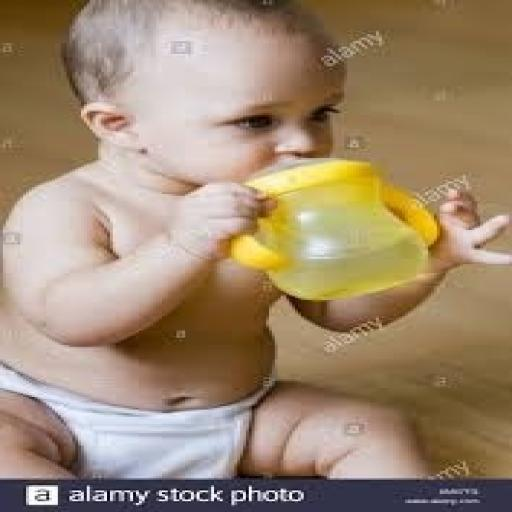drinking: (223, 154, 445, 302)
